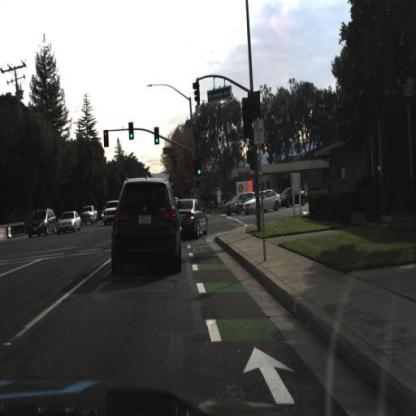car: (104, 177, 189, 285), (177, 195, 211, 246), (24, 206, 56, 241), (244, 188, 282, 217), (221, 193, 251, 218), (57, 210, 82, 239), (280, 189, 310, 209), (101, 197, 118, 228), (80, 205, 100, 230)
trafficLight: (104, 128, 111, 151)
trafficLight-Green: (247, 92, 263, 139), (154, 129, 160, 146), (129, 123, 135, 138), (197, 163, 203, 178)
